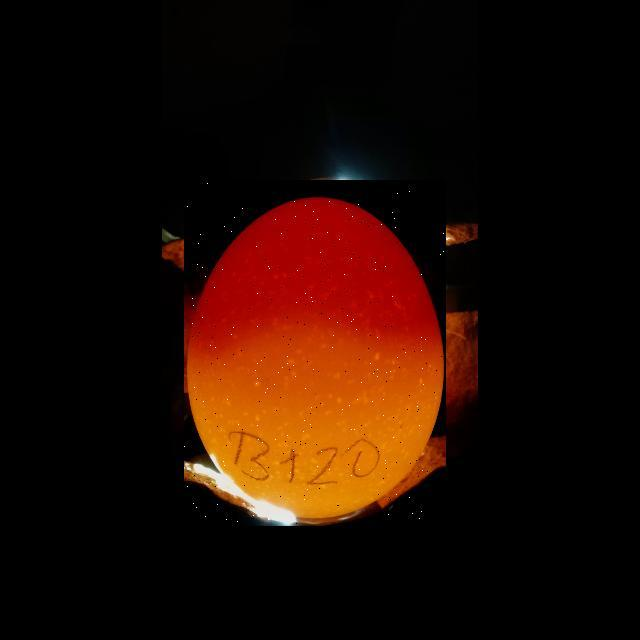Fertile: (184, 180, 446, 526)
